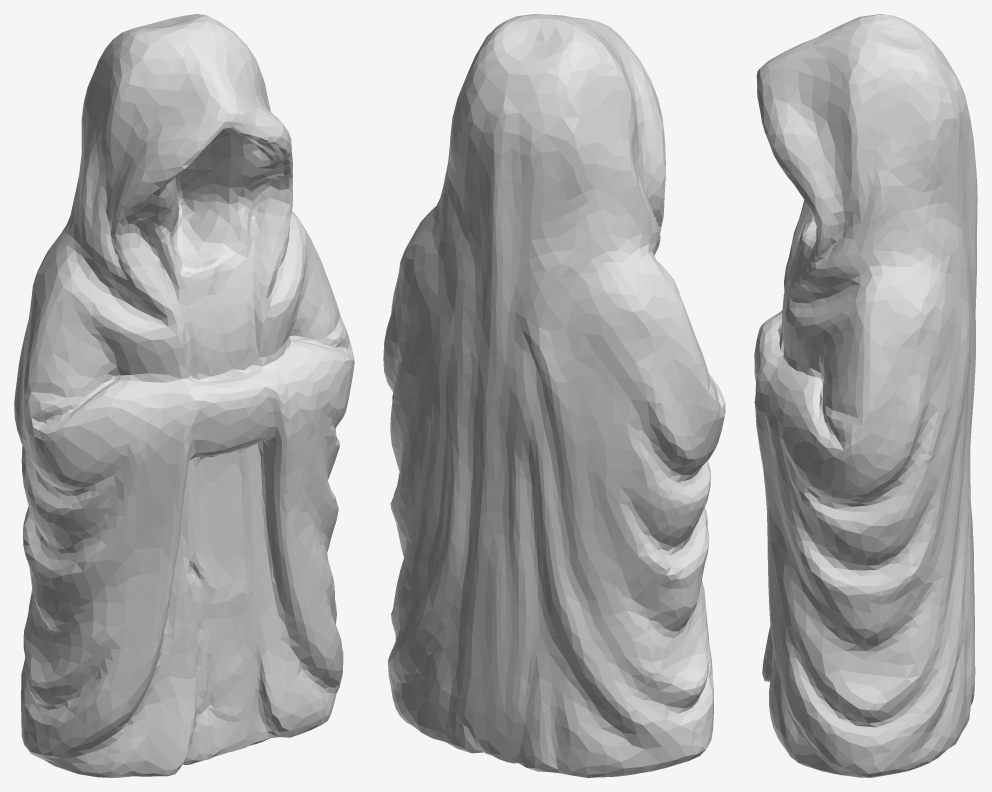
The model's file is idol_hooded_r1.glb.
3 renders of one model, left to right at view 1: azimuth 30°, elevation 25°; view 2: azimuth 150°, elevation 25°; view 3: azimuth 270°, elevation 25°, orthographic. The views are drawn at different scales.
Visible parts, largest first — view 1: Low; view 2: Low; view 3: Low.
Part boxes in pixels (x1,y1,x2,y2): Low: (14, 14, 354, 777); Low: (383, 14, 725, 777); Low: (754, 14, 977, 777).
Size of the model in its own units: 0.9578 by 1.98 by 0.5848.
Materials: 1 (1 with a texture image).
